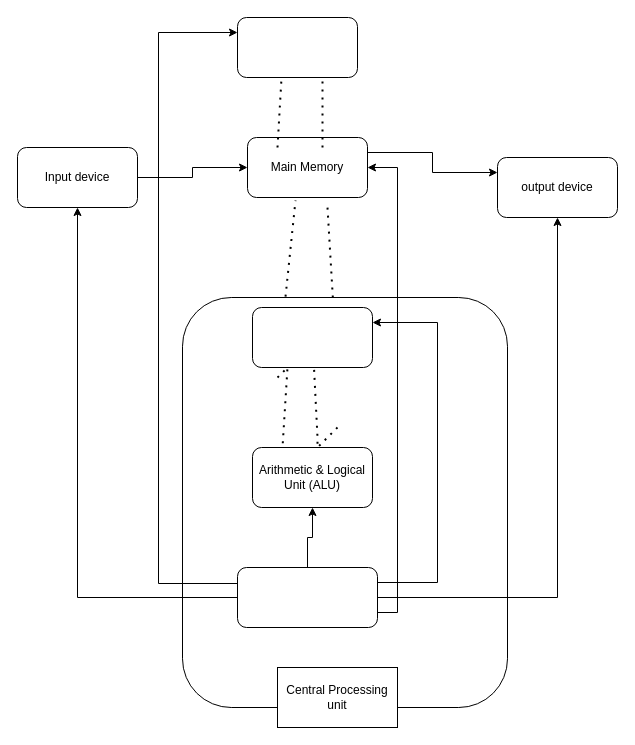
Some shapes in this 635 by 745 pixel diagram are drawn without their labels. The shapes that lost their labels are listed below. From the top down, each one's centre as x and y in pixels, then its label:
[297,47]: Secondary Memory
[312,337]: Register
[307,597]: Control unit (CU)
